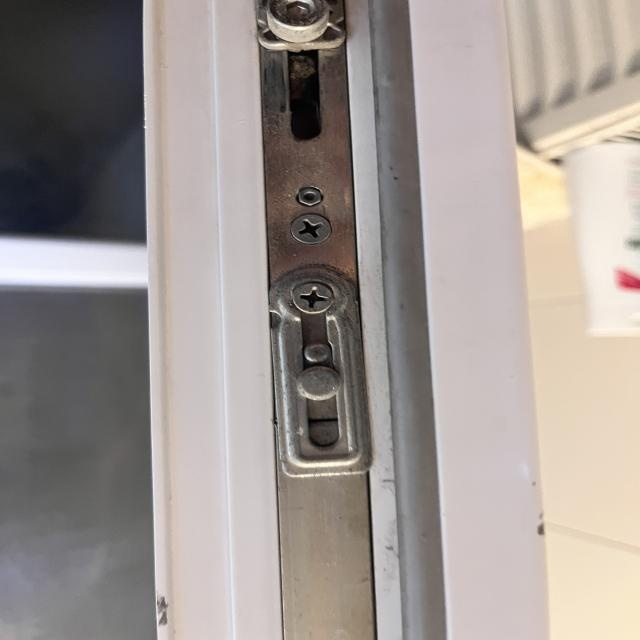allen: (298, 187, 322, 205)
phillips: (292, 282, 334, 314), (290, 214, 333, 245)
